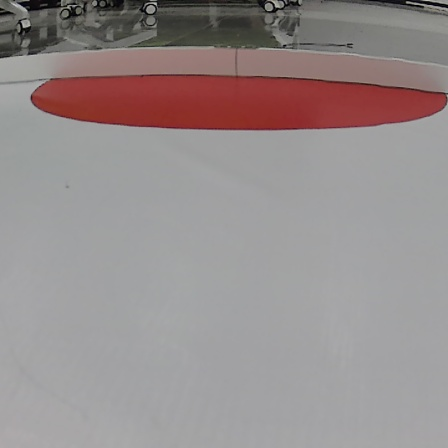red_base: (28, 71, 448, 131)
